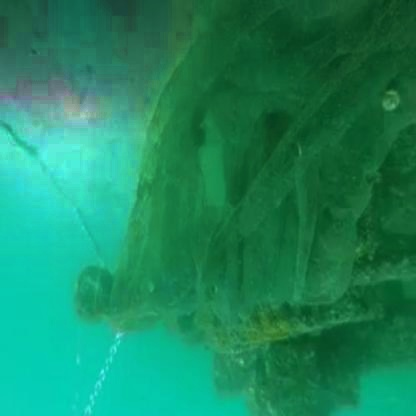plastic: (125, 70, 366, 356)
